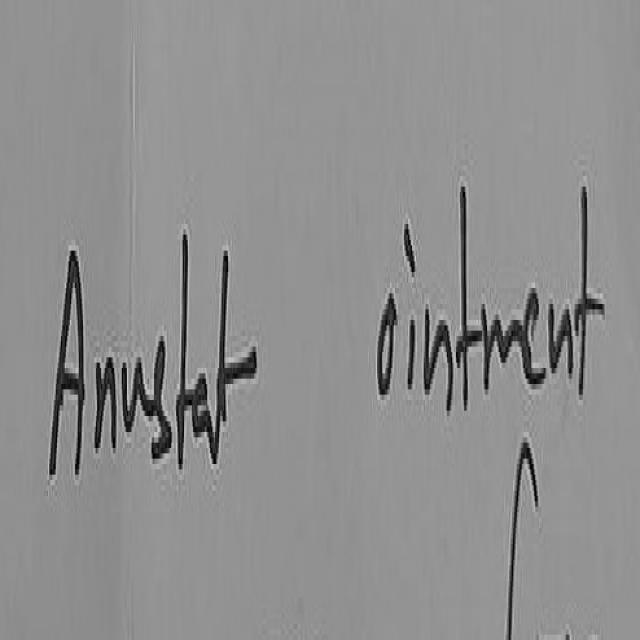A: (49, 251, 84, 472)
a: (192, 373, 215, 461)
e: (523, 288, 546, 381)
i: (406, 219, 416, 269), (408, 320, 415, 387)
m: (484, 304, 526, 387)
n: (425, 304, 455, 408), (93, 349, 117, 448), (549, 299, 574, 373)
o: (378, 293, 398, 392)
s: (139, 344, 172, 459)
t: (218, 251, 258, 451), (577, 187, 606, 392), (457, 180, 481, 413), (173, 228, 193, 467)
u: (122, 357, 150, 429)
